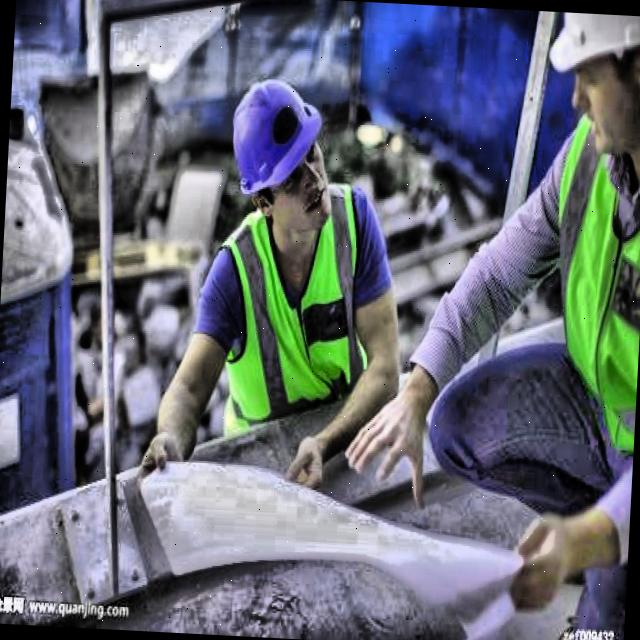helmet: (218, 60, 339, 258), (535, 11, 640, 180)
